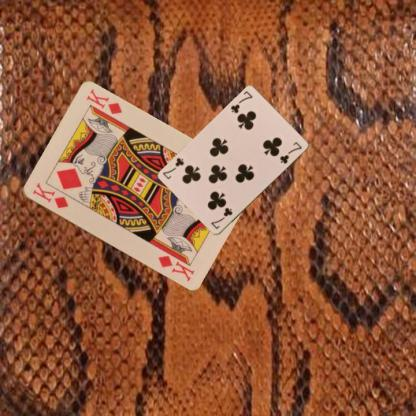7c: (228, 88, 254, 115), (209, 205, 233, 231)
Kd: (29, 180, 70, 210)
